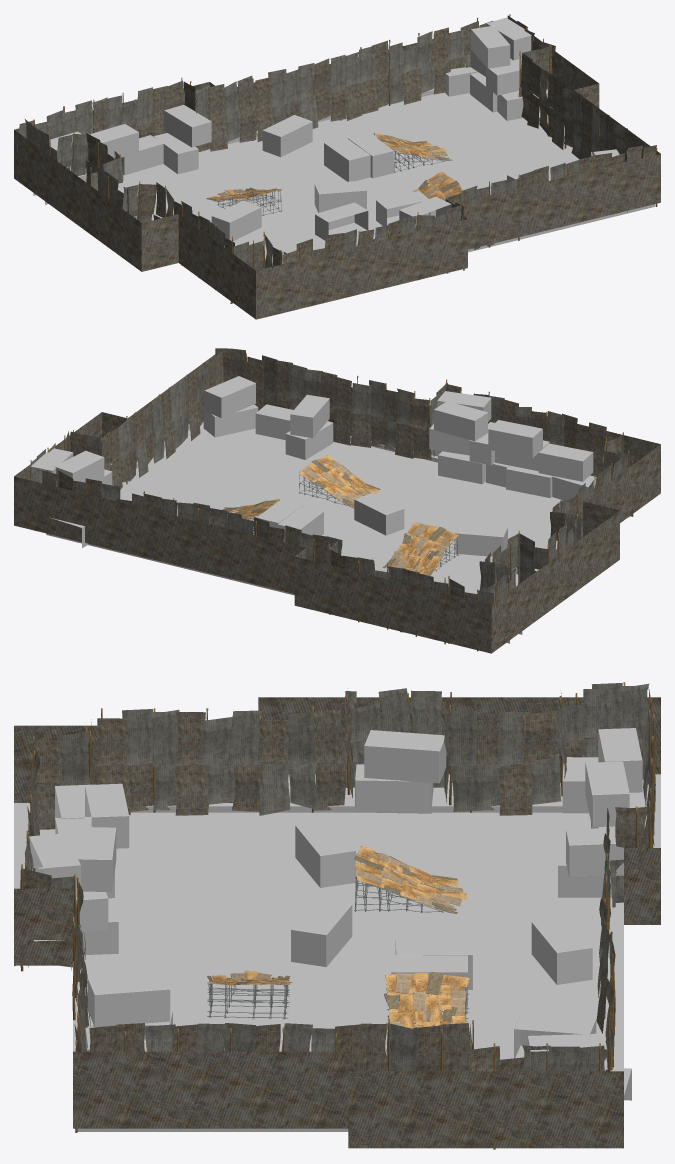
The model's file is tutorialArena_01_static.fbx.
3 views of the same model, one above another, from view 1: azimuth 30°, elevation 25°; view 2: azimuth 150°, elevation 25°; view 3: azimuth 270°, elevation 25° (orthographic). The views are drawn at different scales.
Parts seen in each view (by area): view 1: geometry_static, polySurface5, polySurface4, ramp_003_wood, ramp_002_wood, ramp_001_frame, ramp_001_wood; view 2: geometry_static, polySurface5, polySurface4, ramp_001_wood, ramp_002_wood, ramp_003_wood; view 3: geometry_static, polySurface4, polySurface5, ramp_003_wood, ramp_001_wood, polySurface3, ramp_002_frame, ramp_002_wood, ramp_001_frame.
Boxes of the visible parts, x1=… form: geometry_static: x1=17, y1=14, x2=657, y2=303; polySurface5: x1=14, y1=36, x2=660, y2=319; polySurface4: x1=123, y1=89, x2=655, y2=268; ramp_003_wood: x1=374, y1=133, x2=452, y2=160; ramp_002_wood: x1=412, y1=171, x2=462, y2=200; ramp_001_frame: x1=217, y1=190, x2=282, y2=215; ramp_001_wood: x1=206, y1=187, x2=283, y2=201; geometry_static: x1=30, y1=348, x2=634, y2=651; polySurface5: x1=14, y1=354, x2=660, y2=653; polySurface4: x1=46, y1=422, x2=577, y2=595; ramp_001_wood: x1=382, y1=522, x2=458, y2=575; ramp_002_wood: x1=299, y1=455, x2=380, y2=508; ramp_003_wood: x1=209, y1=499, x2=280, y2=523; geometry_static: x1=14, y1=682, x2=655, y2=1149; polySurface4: x1=14, y1=774, x2=660, y2=1131; polySurface5: x1=14, y1=697, x2=660, y2=1148; ramp_003_wood: x1=384, y1=972, x2=469, y2=1050; ramp_001_wood: x1=354, y1=845, x2=466, y2=913; polySurface3: x1=609, y1=806, x2=647, y2=907; ramp_002_frame: x1=207, y1=980, x2=289, y2=1019; ramp_002_wood: x1=207, y1=970, x2=292, y2=985; ramp_001_frame: x1=354, y1=846, x2=443, y2=912.
Size of what is drawn, in the model's own units: 7387 by 991 by 5397.
